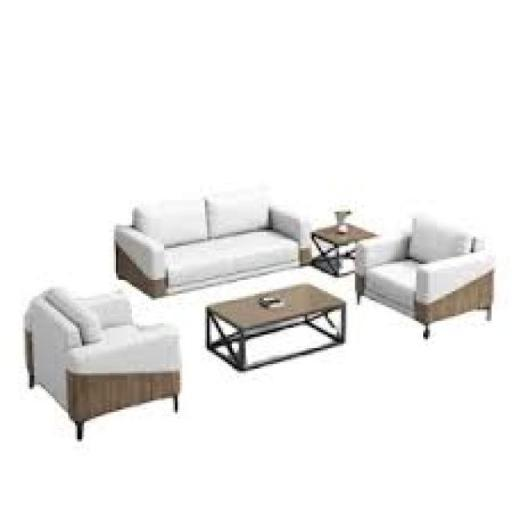sofa: (13, 280, 224, 463), (356, 203, 512, 394)
